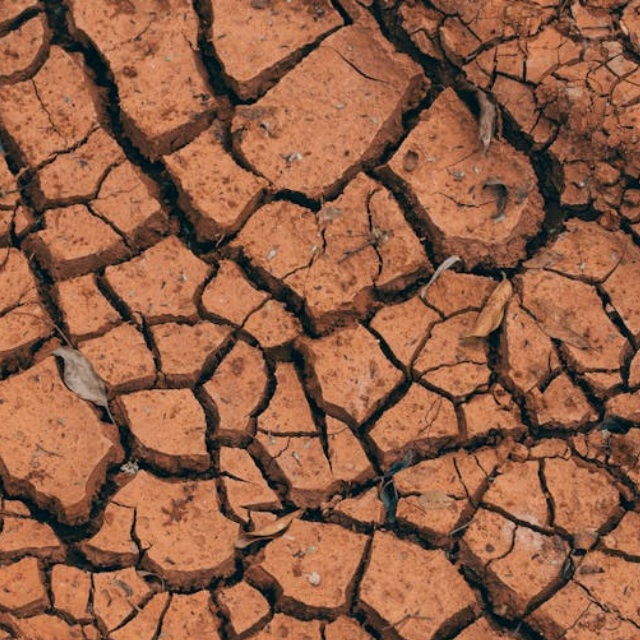深大裂缝: (0, 153, 231, 528)
细微裂纹: (0, 0, 250, 640)
网状裂隙: (0, 0, 296, 640)
